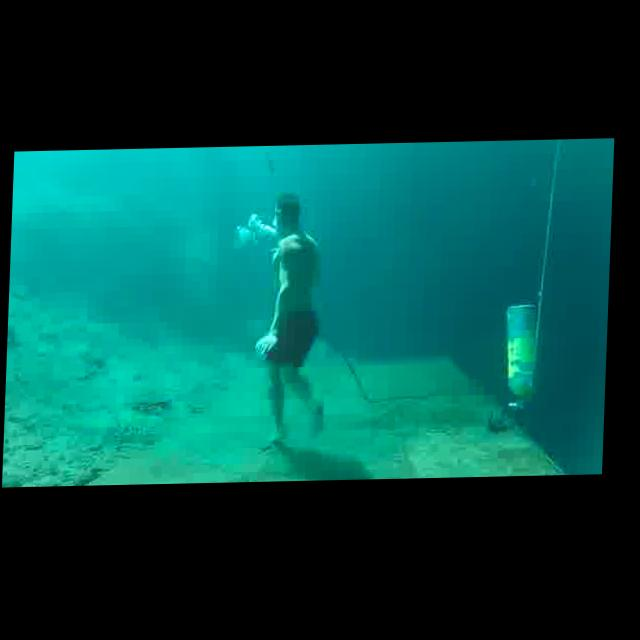human: (250, 187, 338, 469)
